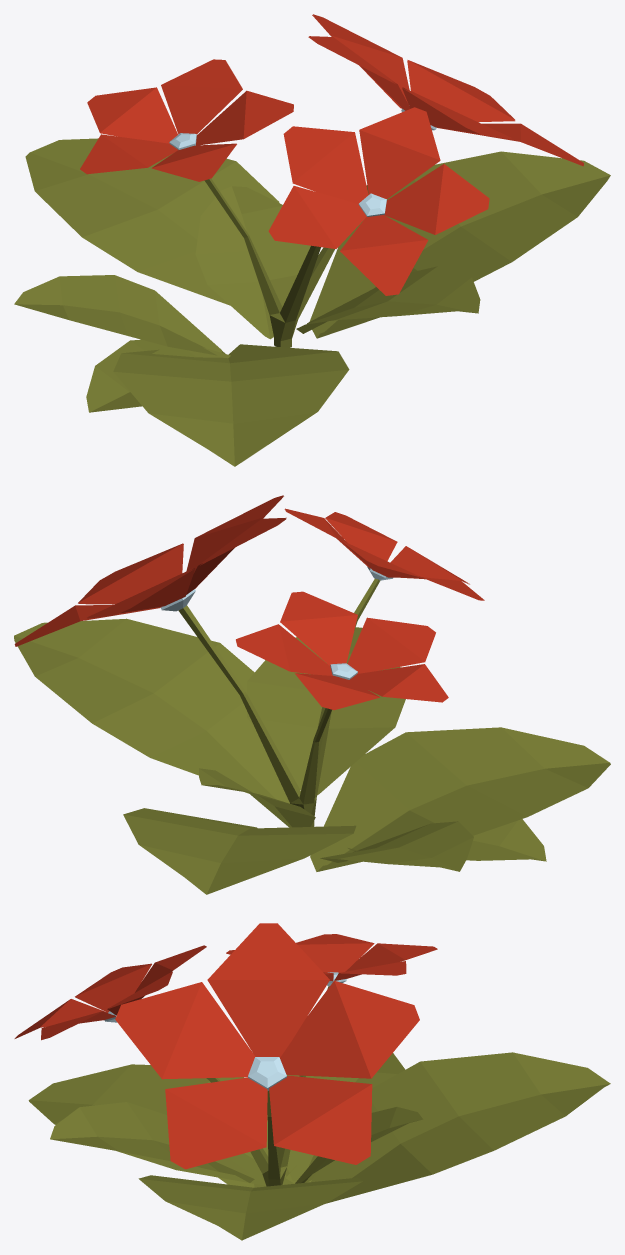
The model's file is Flower_4.fbx.
3 views of the same model, one above another, from view 1: azimuth 30°, elevation 25°; view 2: azimuth 150°, elevation 25°; view 3: azimuth 270°, elevation 25° (orthographic). The views are drawn at different scales.
Parts seen in each view (by area): view 1: Flower_4; view 2: Flower_4; view 3: Flower_4.
Boxes of the visible parts, box(x1,y1,x2,y2) form: Flower_4: box(14, 14, 610, 466); Flower_4: box(14, 495, 610, 894); Flower_4: box(14, 923, 610, 1240).
Size of the model in its own units: 64.77 by 37.56 by 66.48.
